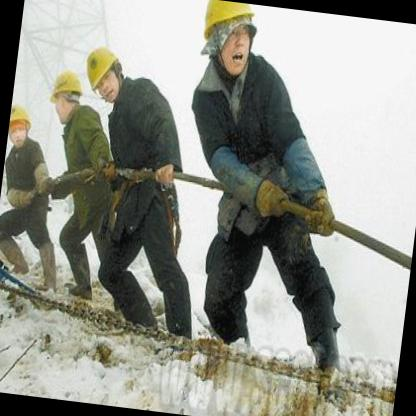bee: (188, 0, 262, 94), (76, 37, 129, 108), (45, 66, 87, 124), (6, 98, 37, 152)
